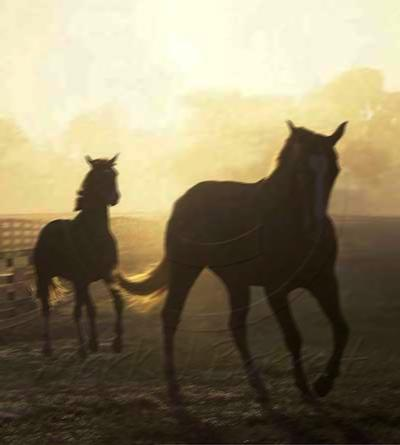horse: (112, 117, 350, 406), (32, 151, 125, 357)
